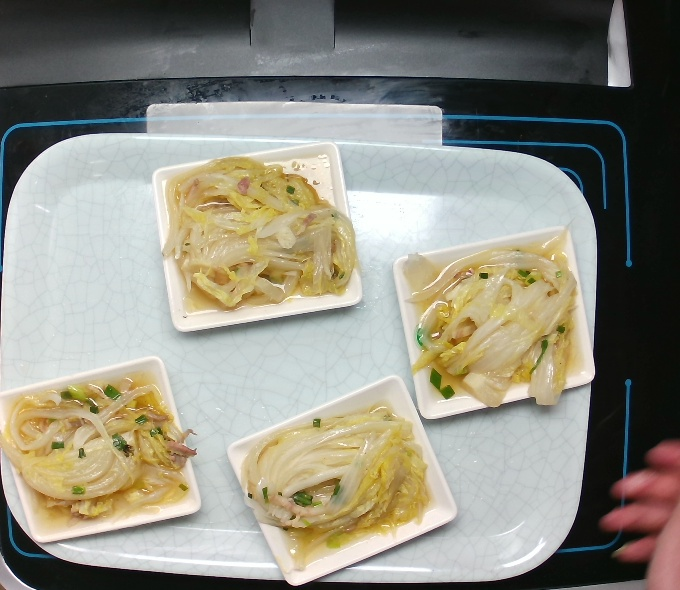wcq-DaBaiCaiRouMou: (159, 155, 360, 313), (4, 371, 194, 535), (241, 400, 432, 563), (402, 232, 579, 401)
